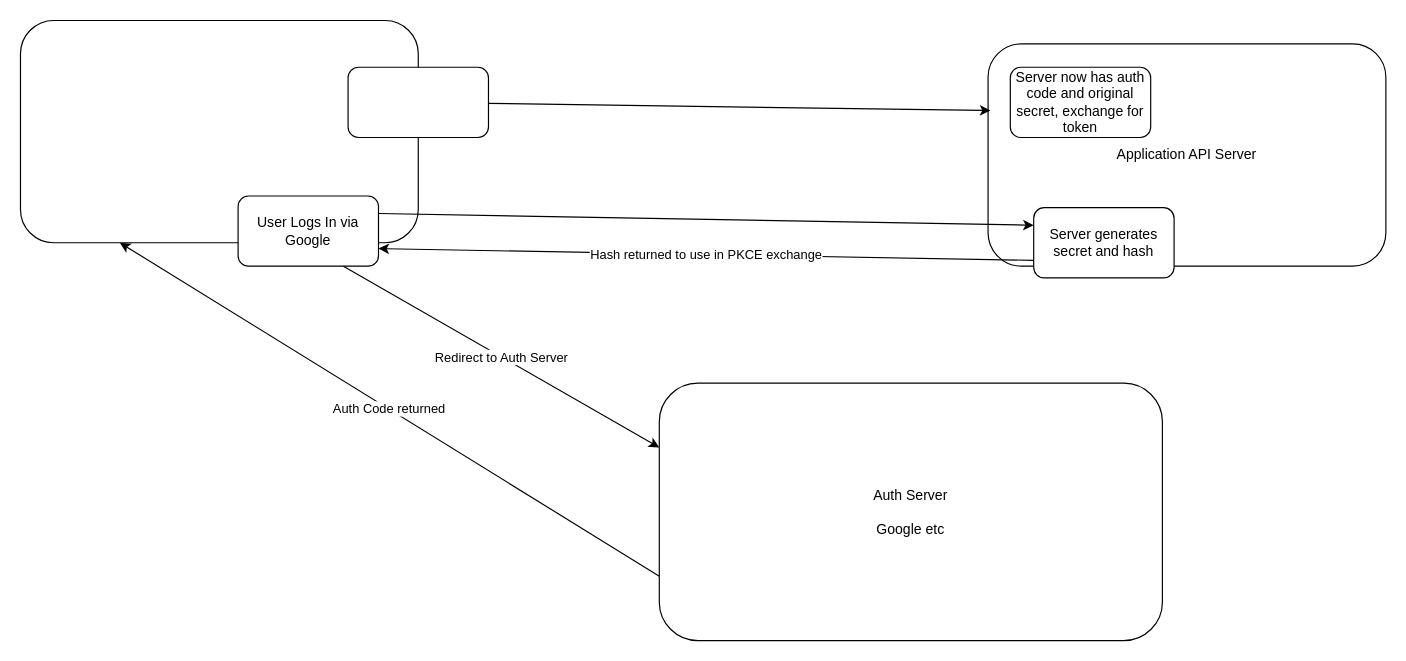
The diagram is 1406 pixels wide and 661 high, and some of its shapes have lost their labels. The box of each missing label's shape, as (x1, y1, x2, y2) in pixels:
Application: (19, 19, 418, 243)
Auth Code: (347, 66, 488, 137)
